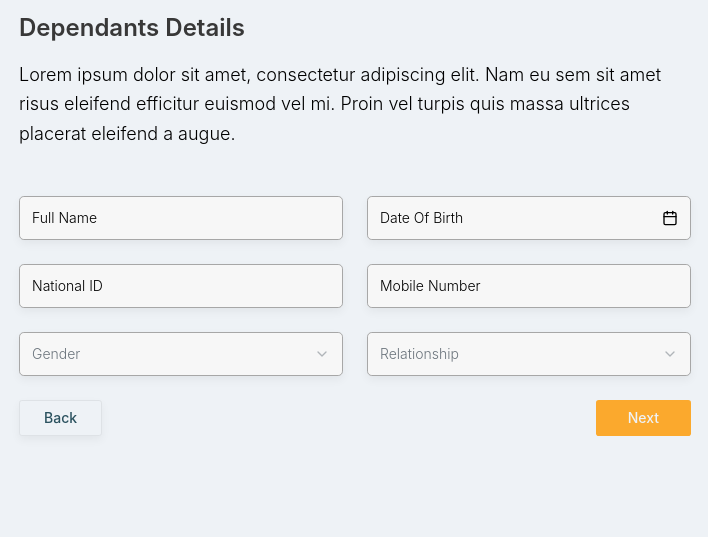
Test: DependantDetails Form › shows validation errors when submitting empty form
Click the button with test id "next-button". click: (643, 418)
box: x1=596 y1=400 x2=691 y2=436
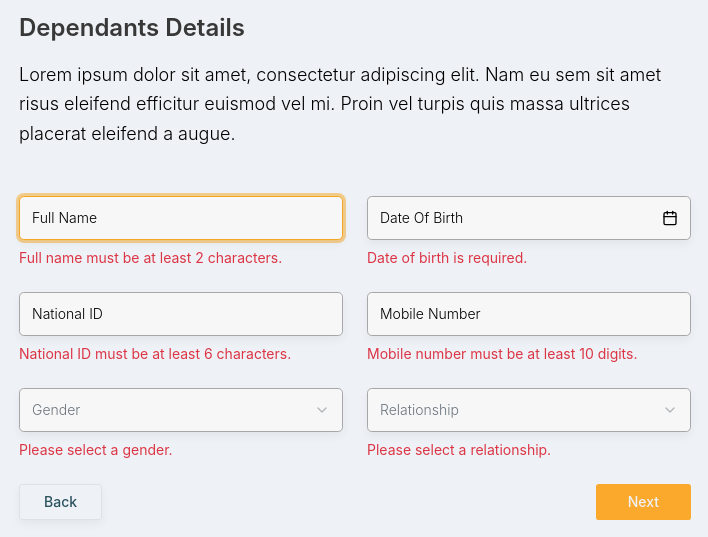
Expected: the text with test id "full-name-error" shows "Full name must be at least 2 characters", x1=19 y1=249 x2=282 y2=266
Expected: the text with test id "date-of-birth-error" shows "Date of birth is required", x1=367 y1=249 x2=527 y2=266
Expected: the text with test id "national-id-error" shows "National ID must be at least 6 characters", x1=19 y1=345 x2=291 y2=362
